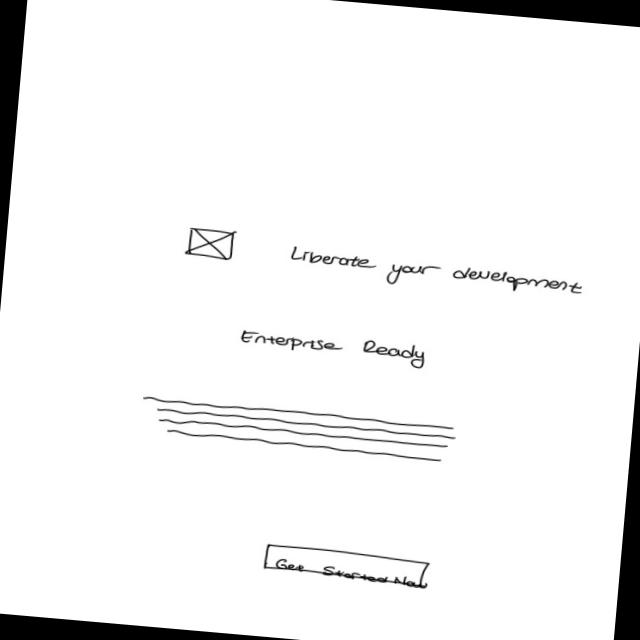button: (261, 542, 433, 592)
image: (184, 225, 239, 262)
label: (287, 246, 588, 305), (239, 327, 430, 372)
textbox: (138, 395, 461, 467)
